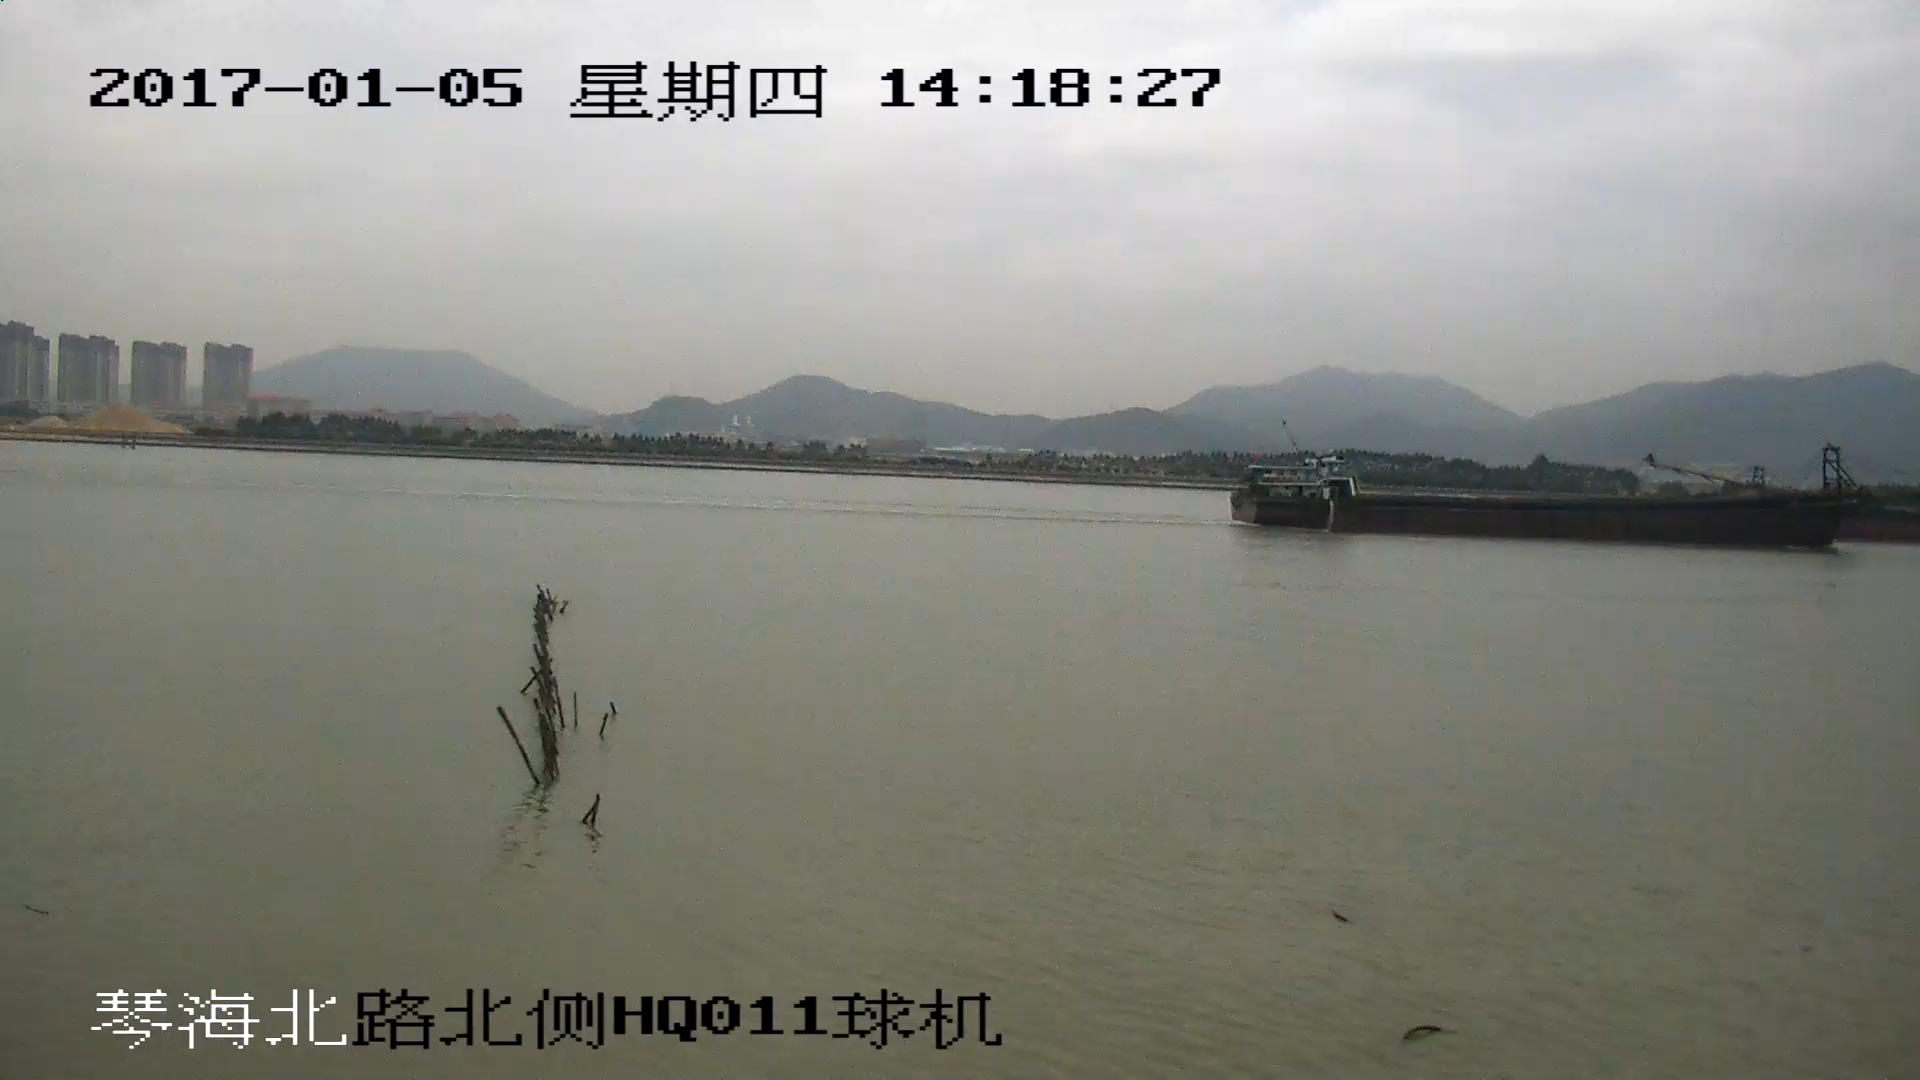bulk cargo carrier: (1226, 433, 1920, 544)
